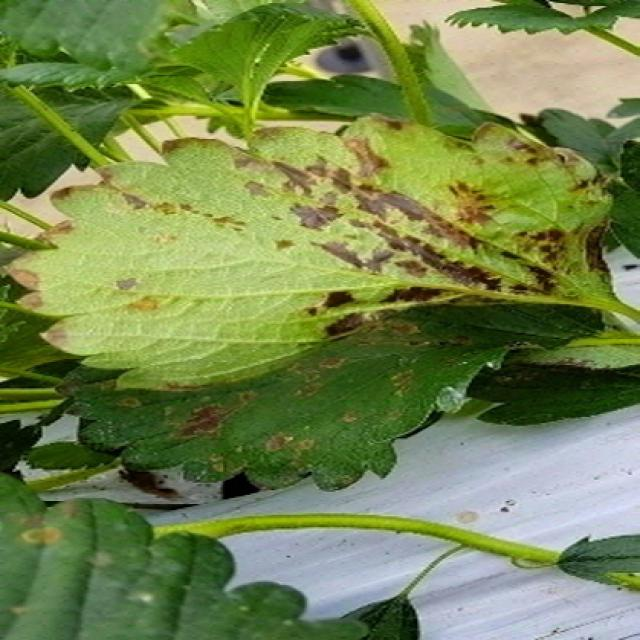Angular Leafspot: (1, 112, 621, 392), (51, 304, 609, 492)
